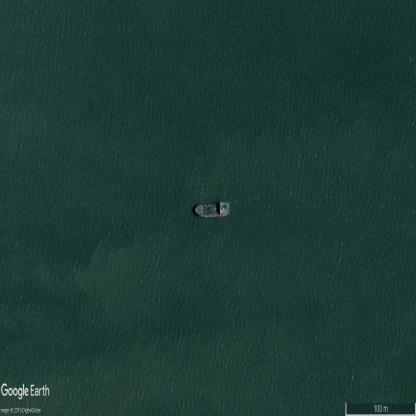ship: (195, 202, 229, 217)
